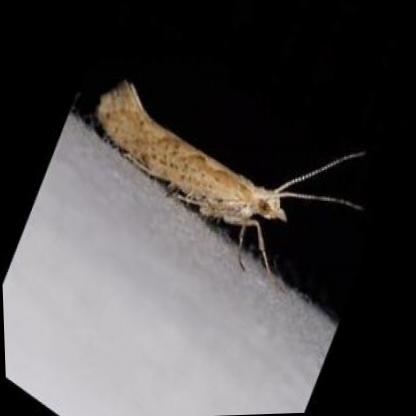plutella: (94, 84, 375, 282)
